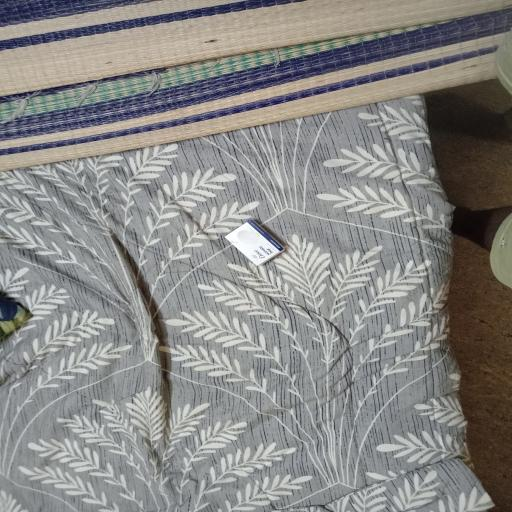Dove`1: (223, 213, 289, 276)
